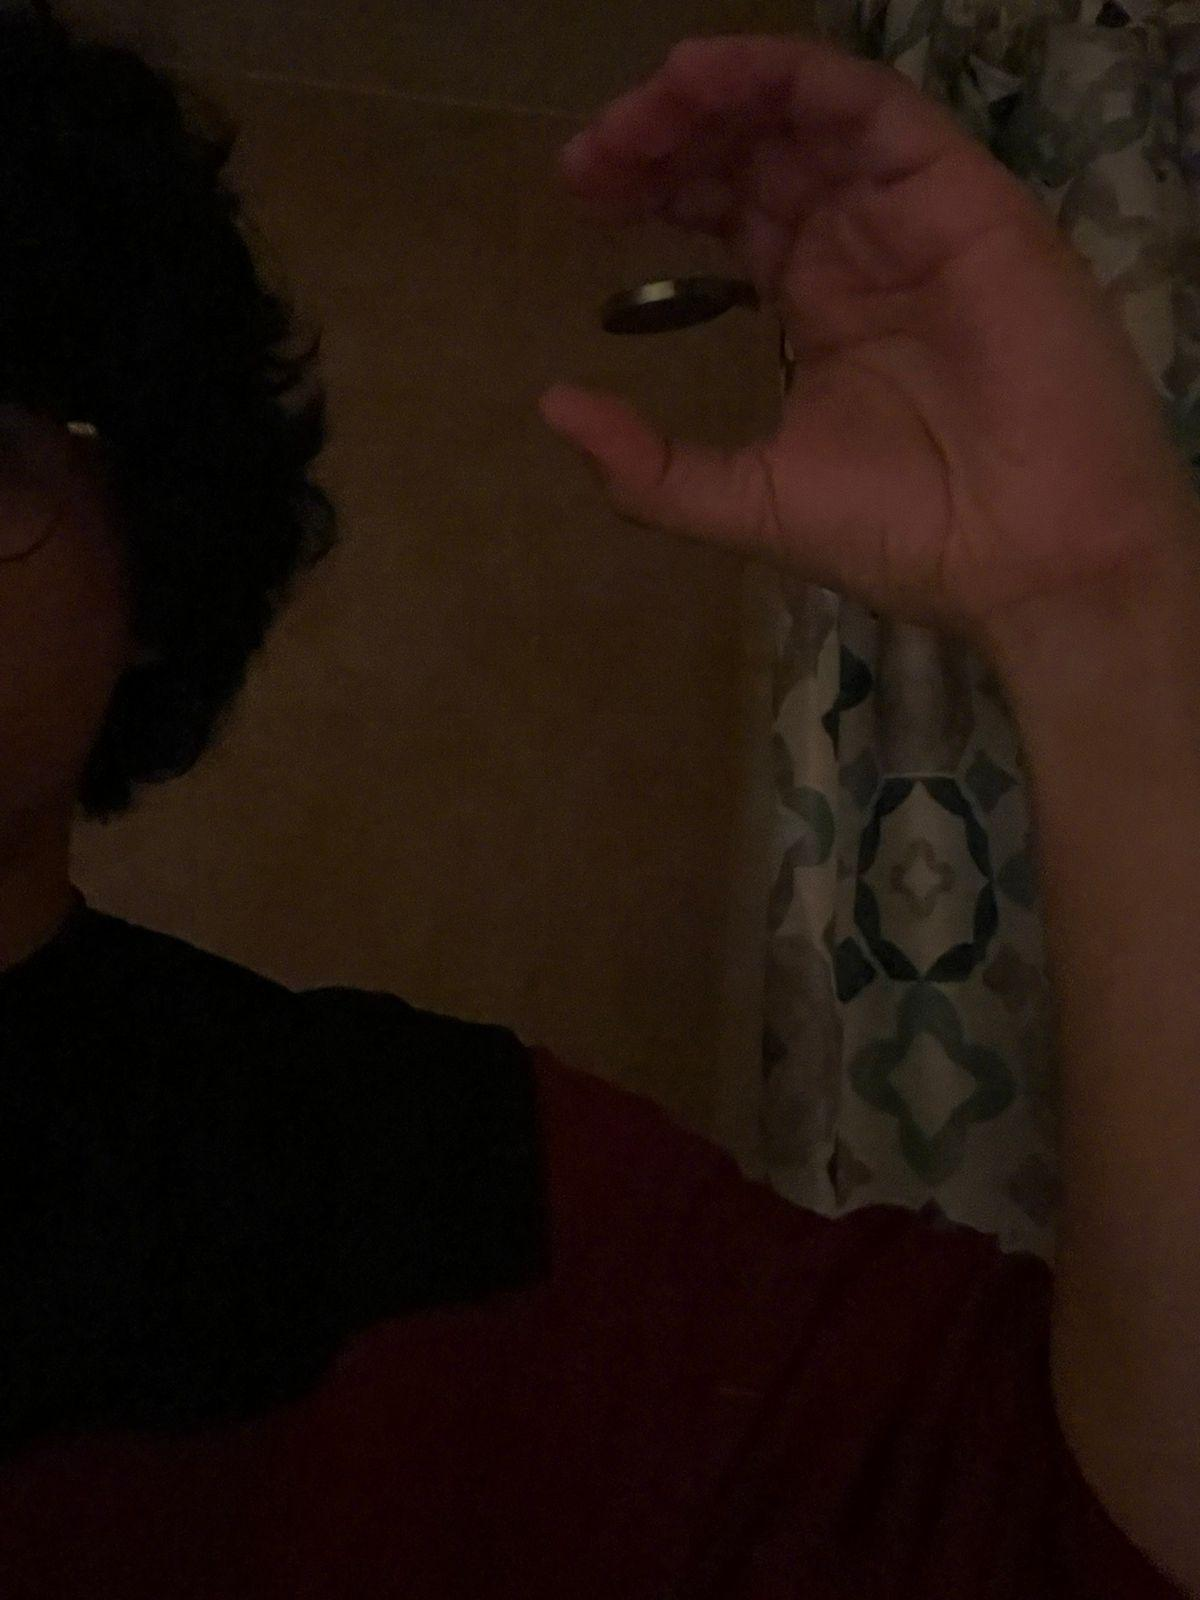C: (521, 10, 1180, 617)
